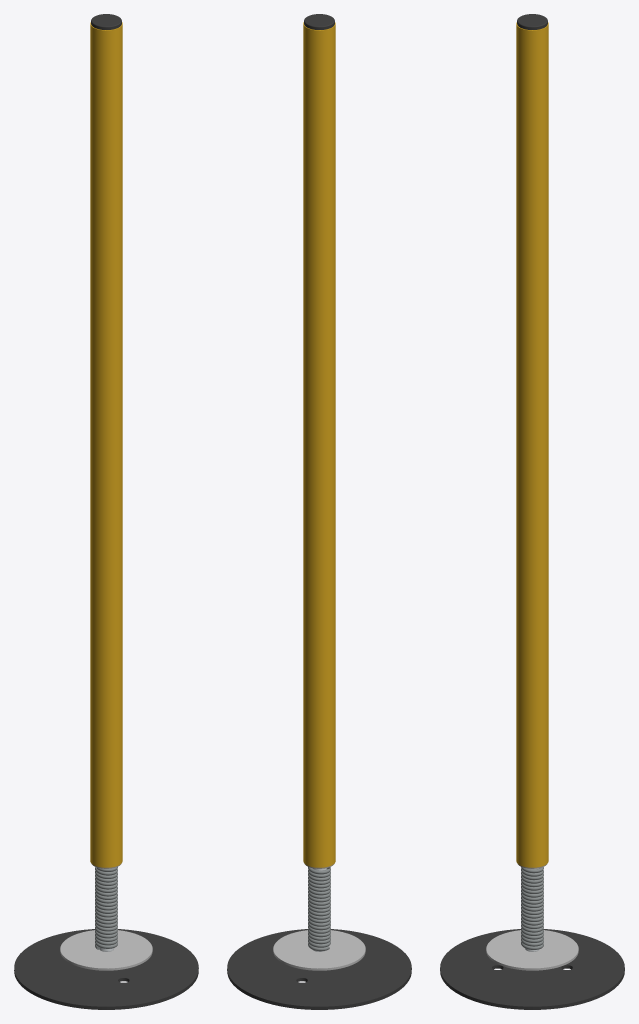
Rendered from junction-tall v1.fbx.
3 renders of one model, left to right at view 1: azimuth 30°, elevation 25°; view 2: azimuth 150°, elevation 25°; view 3: azimuth 270°, elevation 25°, orthographic.
Visible parts, largest first — view 1: Body1 (×4); view 2: Body1 (×4); view 3: Body1 (×4).
Part boxes in pixels (x1,y1,x2,y2): Body1 (×4): (14,22,198,1009); Body1 (×4): (227,22,411,1009); Body1 (×4): (440,22,624,1009).
Bounding box in the file's own units: 6 × 34.16 × 6.
